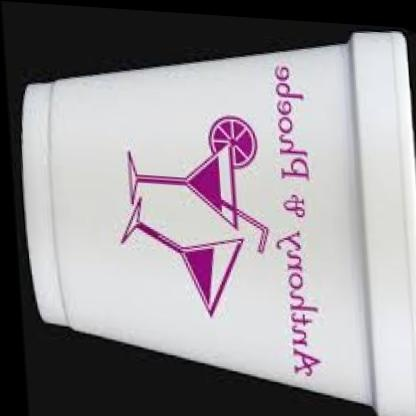trash: (23, 32, 415, 415)
